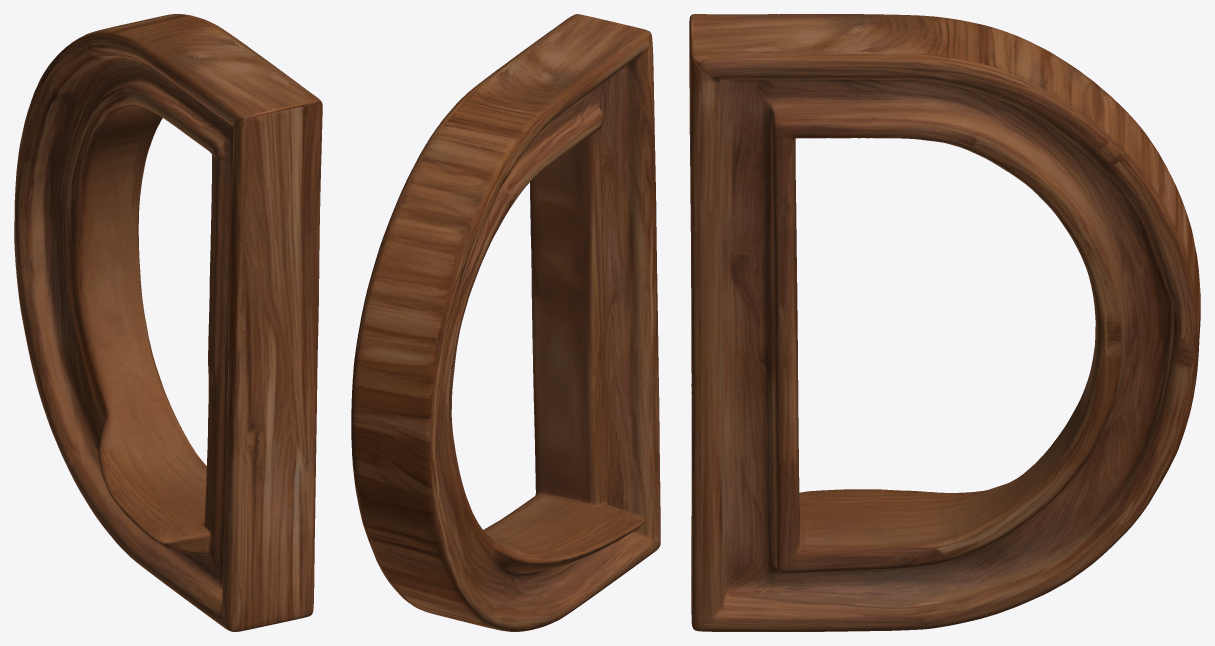
The model's file is d-window-frame-opt.glb.
The picture shows the model from 3 angles, left to right: view 1: azimuth 30°, elevation 25°; view 2: azimuth 150°, elevation 25°; view 3: azimuth 270°, elevation 25°; orthographic projection. The views are drawn at different scales.
Parts seen in each view (by area): view 1: tripo_node_d5cf0c24-2123-4f4a-b578-813bc86847bc; view 2: tripo_node_d5cf0c24-2123-4f4a-b578-813bc86847bc; view 3: tripo_node_d5cf0c24-2123-4f4a-b578-813bc86847bc.
Boxes of the visible parts, left/top/right/bottom form: tripo_node_d5cf0c24-2123-4f4a-b578-813bc86847bc: left=14, top=14, right=322, bottom=631; tripo_node_d5cf0c24-2123-4f4a-b578-813bc86847bc: left=351, top=14, right=660, bottom=631; tripo_node_d5cf0c24-2123-4f4a-b578-813bc86847bc: left=689, top=14, right=1200, bottom=631.
Size of the model in its own units: 0.2382 by 0.9489 by 0.7549.
1 material, 1 textured.
